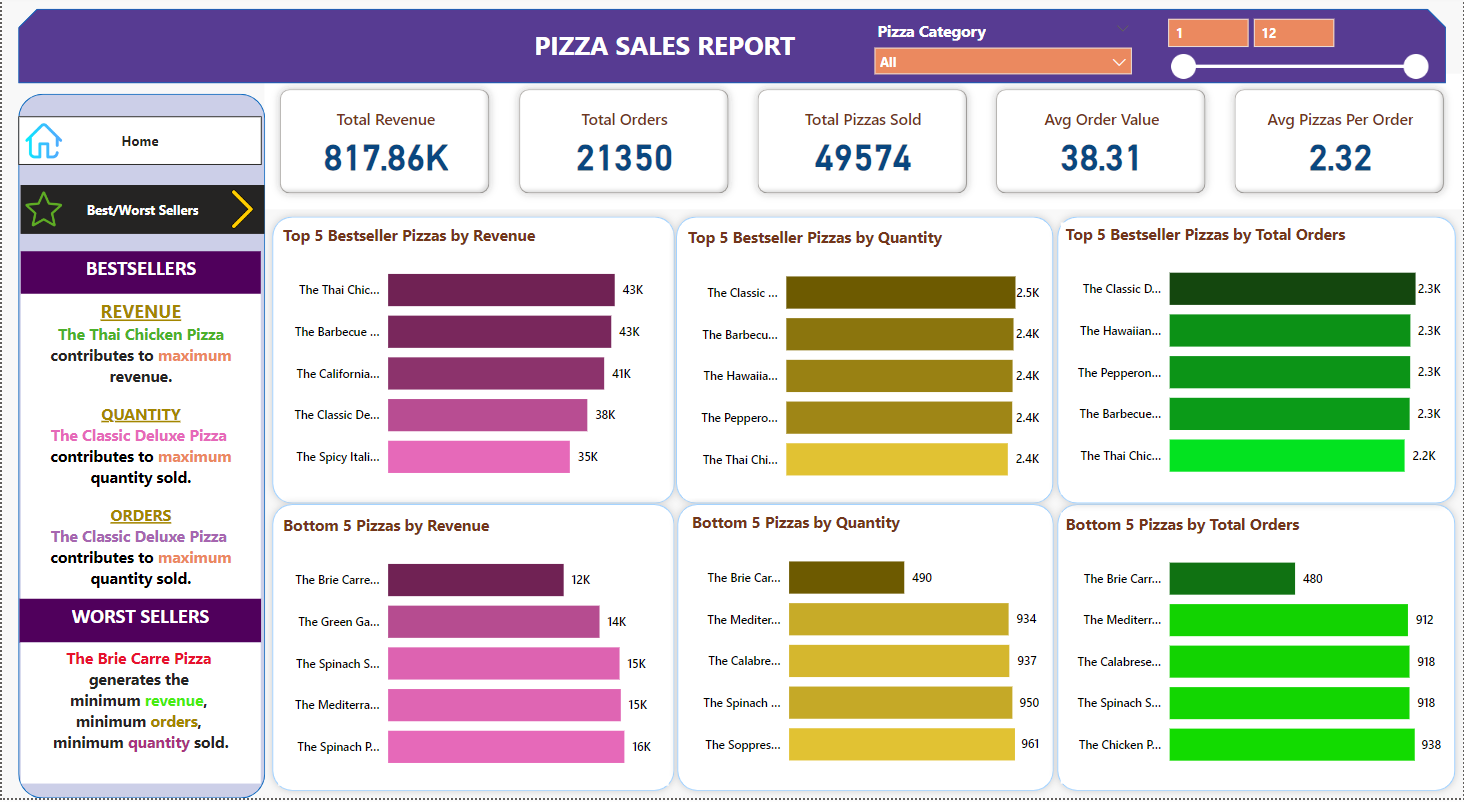

This screenshot's page, from the dashboard's own definition file:
{"tool":"powerbi","page":{"name":"Best/Worst Sellers","canvas":[1500,820],"ordinal":1},"visuals":[{"type":"cardVisual","fields":{"Data":["pizza_sales.Total Revenue","pizza_sales.Total Orders","pizza_sales.Total Pizzas Sold","pizza_sales.Avg Order Value","pizza_sales.Avg Pizzas Per Order"]},"box":[270.1,75.2,1229.3,139.2],"z":0},{"type":"shape","box":[16.7,8.4,1466,76.6],"z":1000},{"type":"textbox","box":[541,23.2,286.2,46.3],"z":2000},{"type":"shape","box":[269.8,213.9,429.2,310.7],"z":3000},{"type":"shape","box":[684,213.9,403.3,310.7],"z":4000},{"type":"shape","box":[270.1,509.5,428.8,310.5],"z":5000},{"type":"shape","box":[685,509.5,402.3,310.5],"z":6000},{"type":"shape","box":[1074.8,509.5,424.6,310.5],"z":7000},{"type":"shape","box":[16.4,96.7,253.5,723.6],"z":8000},{"type":"textbox","box":[19.1,257.5,246.6,43.6],"z":9000},{"type":"textbox","box":[19.1,301.1,246.6,313.4],"z":10000},{"type":"textbox","box":[17.7,614.6,248,45],"z":11000},{"type":"textbox","box":[19.1,659.5,246.6,144.4],"z":12000},{"type":"slicer","fields":{"Values":["pizza_sales.pizza_category"]},"box":[885.4,15.3,284,64],"z":13000},{"type":"slicer","fields":{"Values":["pizza_sales.Month Num"]},"box":[1184.8,8.4,288.2,79.4],"z":14000},{"type":"clusteredBarChart","title":"Top 5 Bestseller Pizzas by Revenue","fields":{"Category":["pizza_sales.pizza_name"],"Y":["pizza_sales.Total Revenue"]},"box":[283.4,230.3,402,279.3],"z":15000},{"type":"clusteredBarChart","title":"Bottom 5 Pizzas by Revenue","fields":{"Category":["pizza_sales.pizza_name"],"Y":["pizza_sales.Total Revenue"]},"box":[283.4,527.3,400.6,279.3],"z":16000},{"type":"clusteredBarChart","title":"Top 5 Bestseller Pizzas by Quantity","fields":{"Category":["pizza_sales.pizza_name"],"Y":["pizza_sales.Total Pizzas Sold"]},"box":[699,231.7,370.6,279.3],"z":17000},{"type":"clusteredBarChart","title":"Bottom 5 Pizzas by Quantity","fields":{"Category":["pizza_sales.pizza_name"],"Y":["pizza_sales.Total Pizzas Sold"]},"box":[703.1,524.6,366.6,279.3],"z":18000},{"type":"shape","box":[1075.1,213.9,425.1,310.7],"z":19000},{"type":"clusteredBarChart","title":"Top 5 Bestseller Pizzas by Total Orders","fields":{"Category":["pizza_sales.pizza_name"],"Y":["pizza_sales.Total Orders"]},"box":[1087.4,228.9,395.2,279.3],"z":20000},{"type":"clusteredBarChart","title":"Bottom 5 Pizzas by Total Orders","fields":{"Category":["pizza_sales.pizza_name"],"Y":["pizza_sales.Total Orders"]},"box":[1087.1,525.8,395.6,278.2],"z":21000},{"type":"pageNavigator","box":[19.5,189.3,250.6,50.1],"z":22000},{"type":"pageNavigator","box":[16.7,119.7,250.6,50.1],"z":23000},{"type":"image","box":[208.8,189.3,75.2,50.1],"z":24000},{"type":"image","box":[19.5,119.7,47.3,50.1],"z":24001},{"type":"image","box":[19.5,186.6,47.3,57.1],"z":24002}]}

Visuals, with their boxes in screenshot pixels (x1, y1, x2, y2), scaled from the page's 1500x820 canvas onto the 1464x802 screenshot:
cardVisual - pizza_sales.Total Revenue x pizza_sales.Total Orders: 264, 74, 1463, 210
shape: 16, 8, 1447, 83
textbox: 528, 23, 807, 68
shape: 263, 209, 682, 513
shape: 668, 209, 1061, 513
shape: 264, 498, 682, 801
shape: 669, 498, 1061, 801
shape: 1049, 498, 1463, 801
shape: 16, 95, 263, 801
textbox: 19, 252, 259, 294
textbox: 19, 294, 259, 601
textbox: 17, 601, 259, 645
textbox: 19, 645, 259, 786
slicer - pizza_sales.pizza_category: 864, 15, 1141, 78
slicer - pizza_sales.Month Num: 1156, 8, 1438, 86
"Top 5 Bestseller Pizzas by Revenue" clusteredBarChart: 277, 225, 669, 498
"Bottom 5 Pizzas by Revenue" clusteredBarChart: 277, 516, 668, 789
"Top 5 Bestseller Pizzas by Quantity" clusteredBarChart: 682, 227, 1044, 500
"Bottom 5 Pizzas by Quantity" clusteredBarChart: 686, 513, 1044, 786
shape: 1049, 209, 1463, 513
"Top 5 Bestseller Pizzas by Total Orders" clusteredBarChart: 1061, 224, 1447, 497
"Bottom 5 Pizzas by Total Orders" clusteredBarChart: 1061, 514, 1447, 786
pageNavigator: 19, 185, 264, 234
pageNavigator: 16, 117, 261, 166
image: 204, 185, 277, 234
image: 19, 117, 65, 166
image: 19, 183, 65, 238
